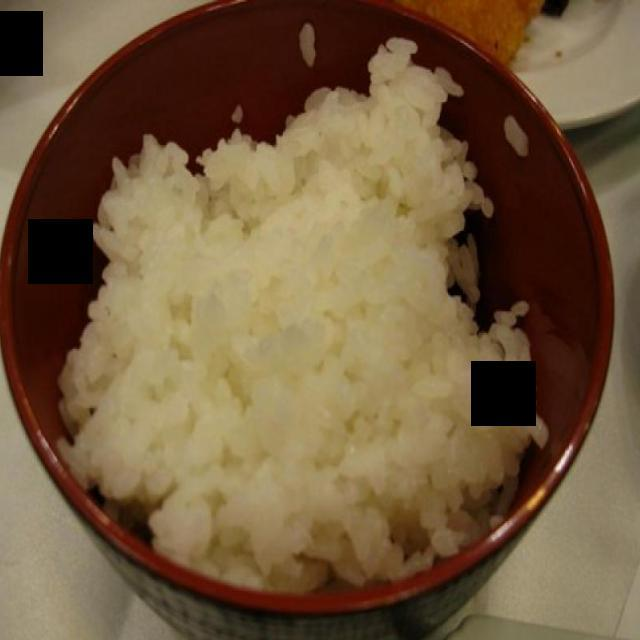rice: (62, 35, 548, 591)
